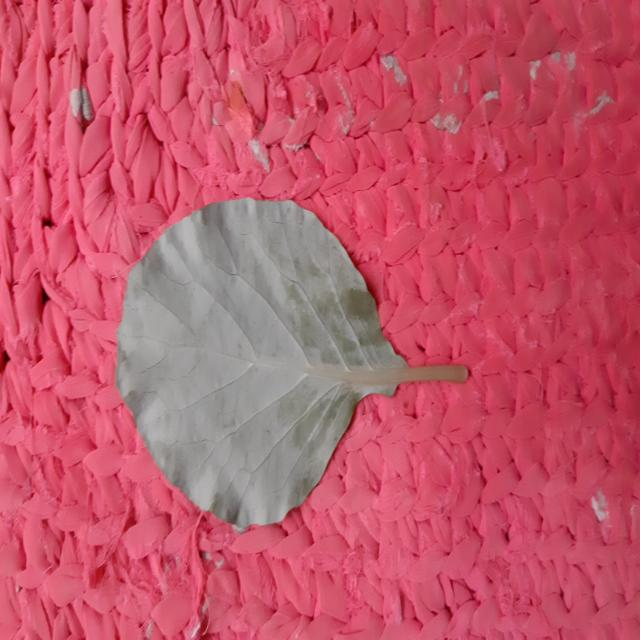Kohlrabi: (116, 198, 469, 527)
